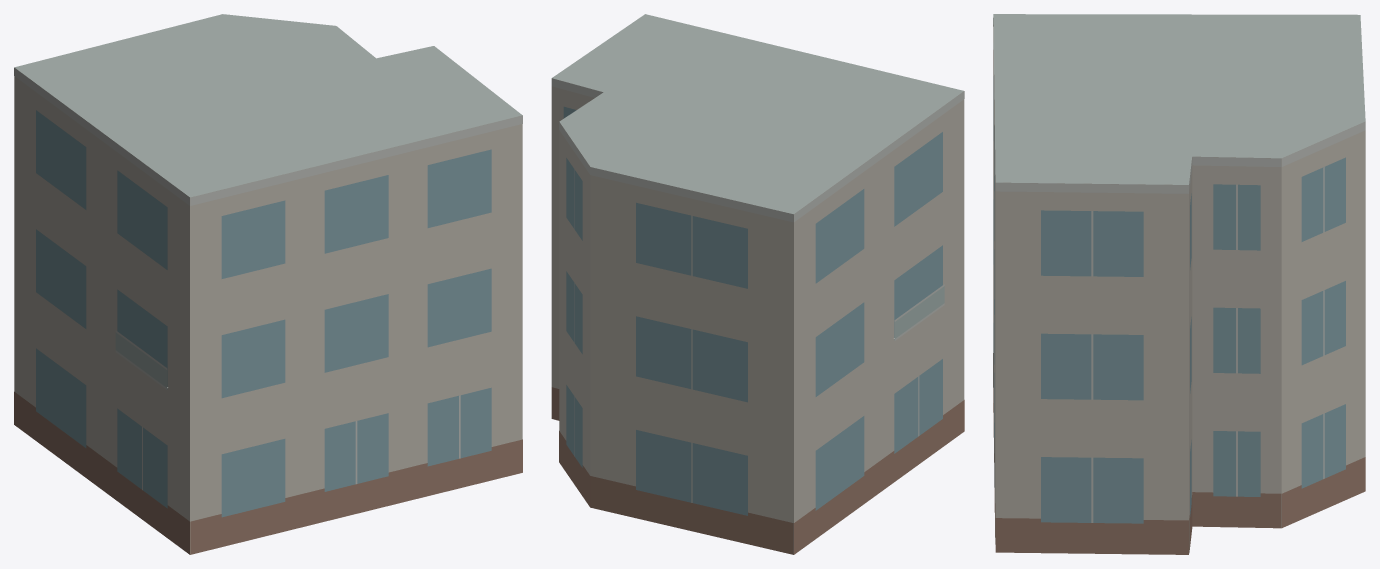
Rendered from survey-upis-32628802.glb.
3 renders of one model, left to right at view 1: azimuth 30°, elevation 25°; view 2: azimuth 150°, elevation 25°; view 3: azimuth 270°, elevation 25°, orthographic. The views are drawn at different scales.
Parts seen in each view (by area): view 1: survey-upis-32628802.tmp; view 2: survey-upis-32628802.tmp; view 3: survey-upis-32628802.tmp.
Part boxes in pixels (<box>): survey-upis-32628802.tmp: <box>14,14,522,554</box>; survey-upis-32628802.tmp: <box>551,14,964,554</box>; survey-upis-32628802.tmp: <box>993,14,1365,554</box>.
Size of the model in its own units: 10.15 by 10.2 by 9.32.
